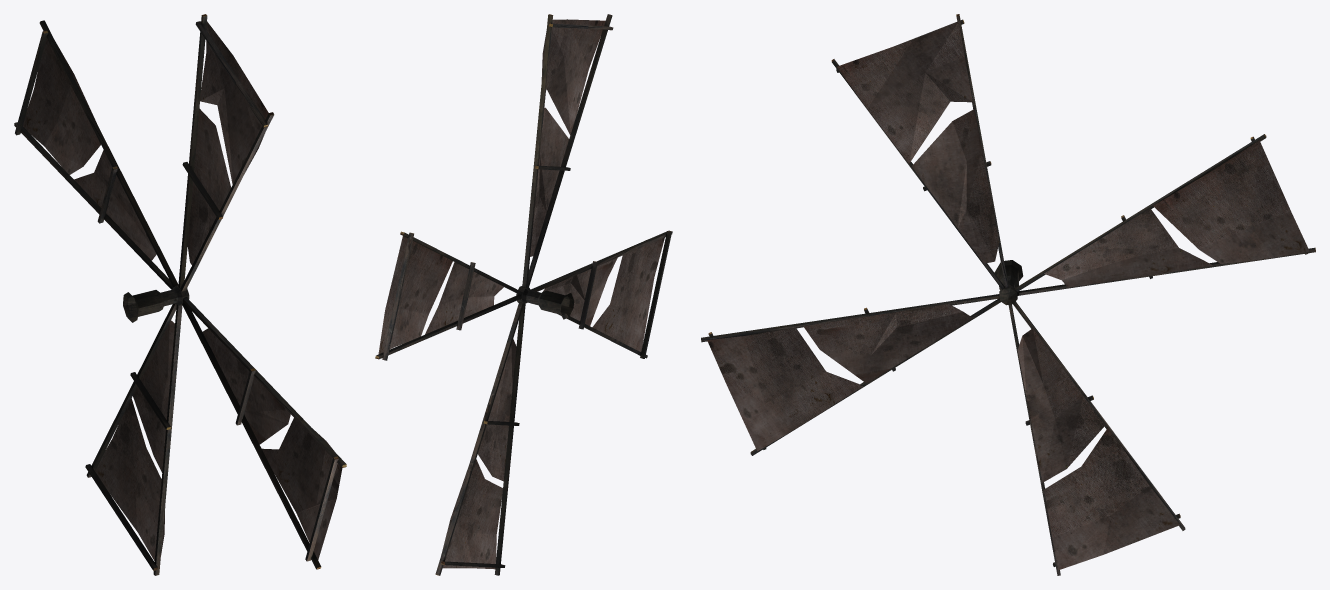
The model's file is wind.obj.
The picture shows the model from 3 angles, left to right: view 1: azimuth 30°, elevation 25°; view 2: azimuth 150°, elevation 25°; view 3: azimuth 270°, elevation 25°; orthographic projection. The views are drawn at different scales.
Visible parts, largest first — view 1: mill; view 2: mill; view 3: mill.
Boxes of the visible parts, left/top/right/bottom form: mill: left=14, top=14, right=346, bottom=575; mill: left=375, top=14, right=672, bottom=575; mill: left=701, top=14, right=1315, bottom=575.
Size of the model in its own units: 9.23 by 88.6 by 88.6.
